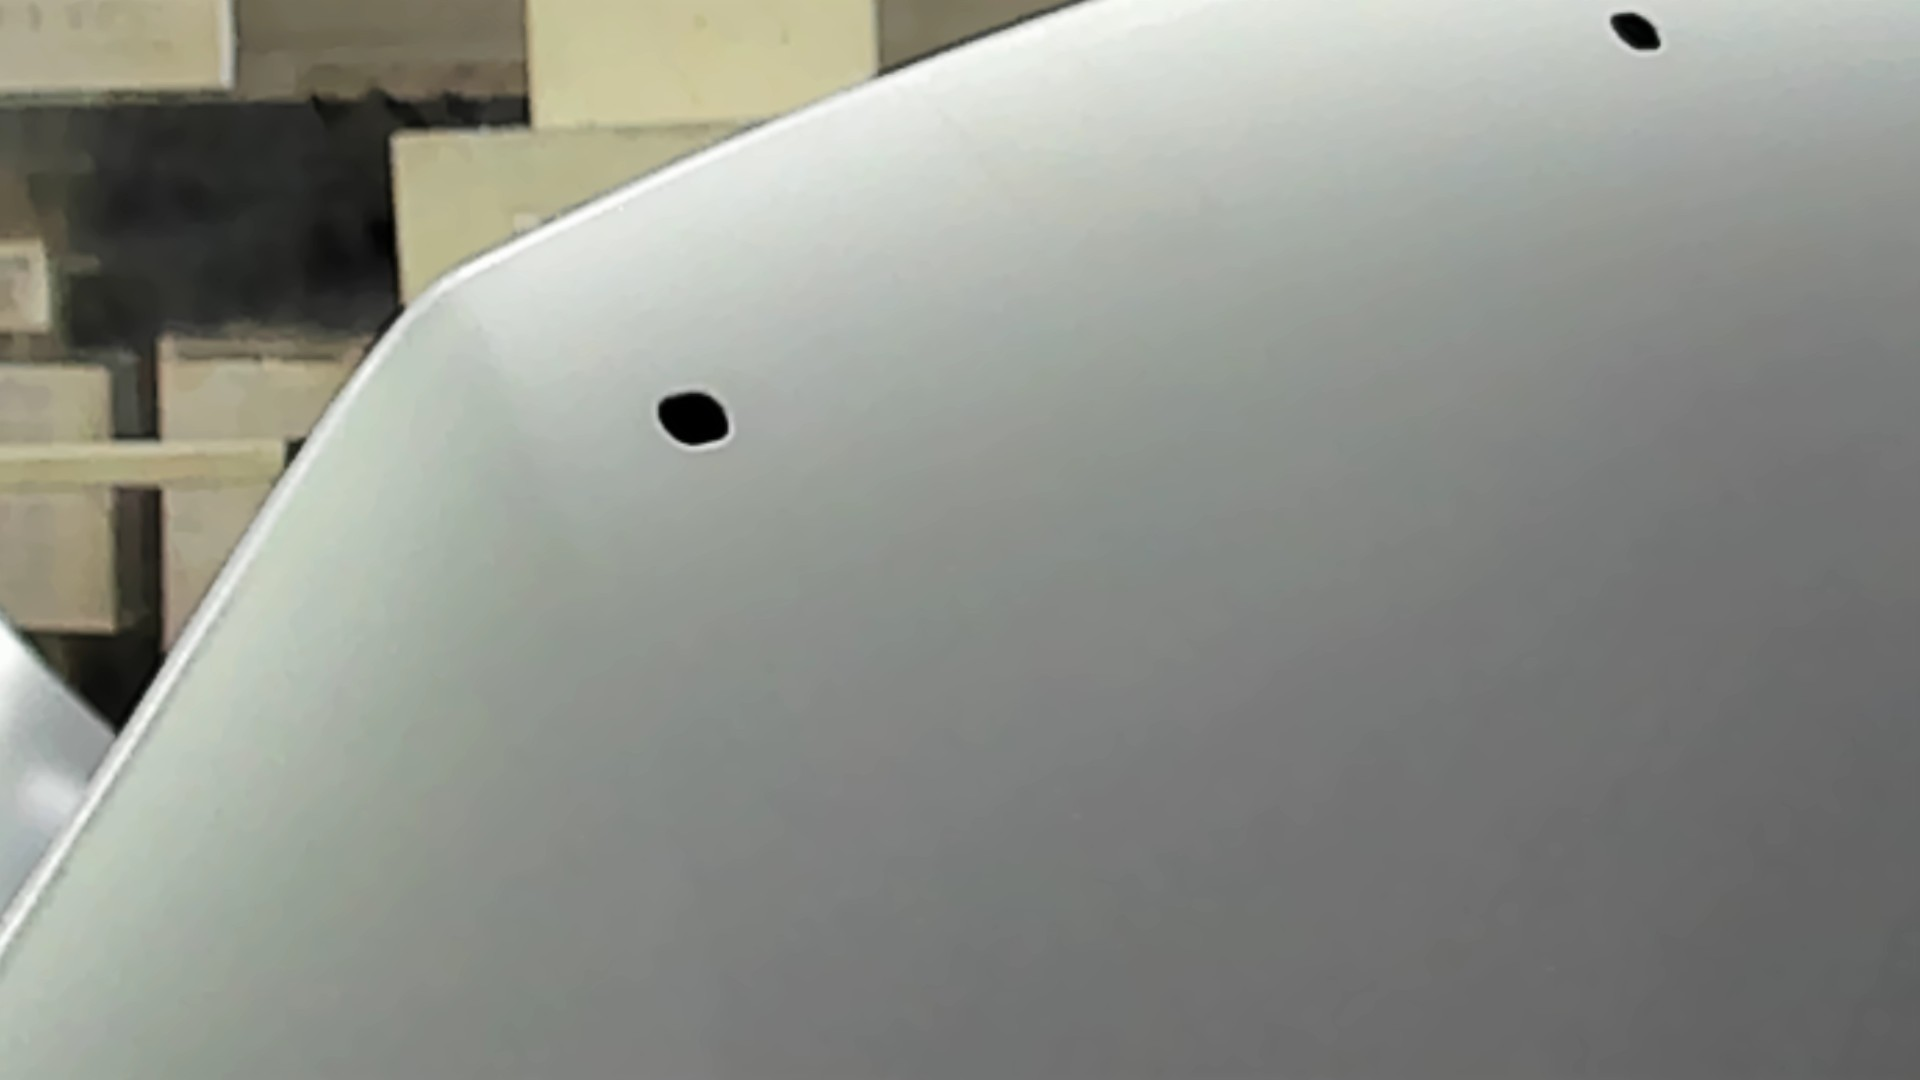amorfo: (651, 385, 738, 455), (1601, 4, 1669, 61)
capo: (789, 146, 1920, 1080)
